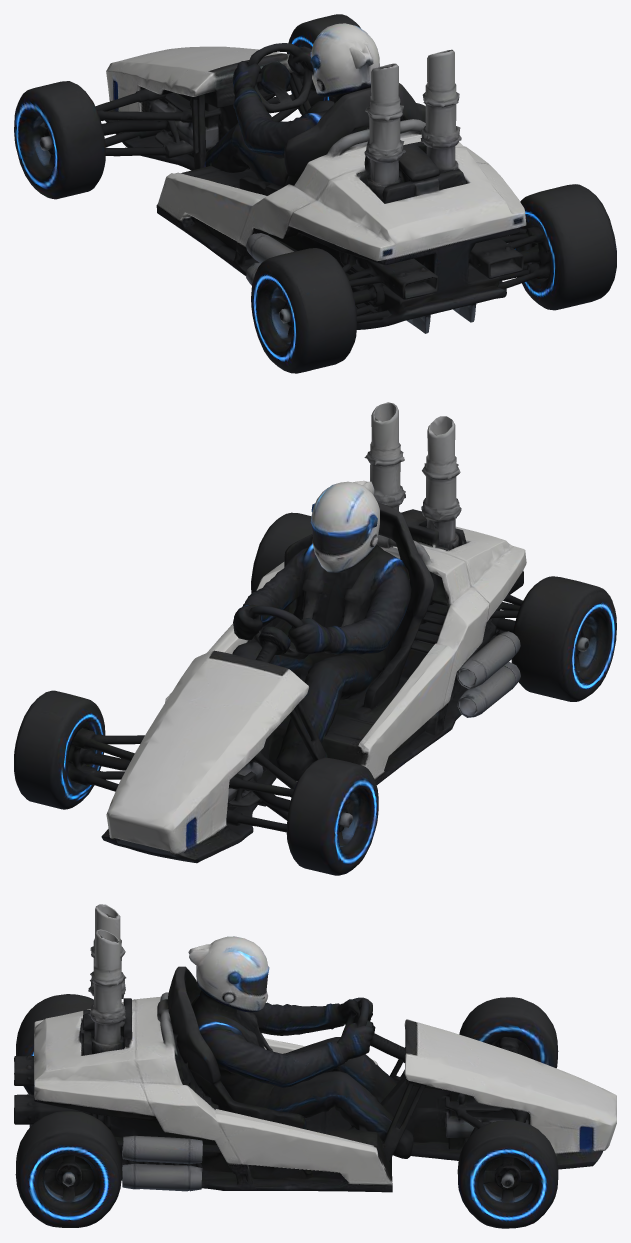
File: terra-final.glb
3 views of the same model, one above another, from view 1: azimuth 30°, elevation 25°; view 2: azimuth 150°, elevation 25°; view 3: azimuth 270°, elevation 25° (orthographic). The views are drawn at different scales.
Parts seen in each view (by area): view 1: chassis, wheel-rl, wheel-rr, wheel-fl, wheel-fr; view 2: chassis, wheel-rl, wheel-fl, wheel-fr, wheel-rr; view 3: chassis, wheel-rr, wheel-fr, wheel-fl, wheel-rl.
Part boxes in pixels (left/top/right/bottom): chassis: left=95, top=23, right=537, bottom=333; wheel-rl: left=251, top=248, right=356, bottom=373; wheel-rr: left=515, top=184, right=616, bottom=310; wheel-fl: left=14, top=81, right=105, bottom=199; wheel-fr: left=287, top=14, right=360, bottom=114; chassis: left=81, top=402, right=526, bottom=863; wheel-rl: left=511, top=576, right=616, bottom=701; wheel-fl: left=286, top=757, right=378, bottom=875; wheel-fr: left=14, top=690, right=105, bottom=809; wheel-rr: left=251, top=512, right=312, bottom=593; chassis: left=14, top=904, right=616, bottom=1192; wheel-rr: left=15, top=1111, right=121, bottom=1227; wheel-fr: left=457, top=1120, right=558, bottom=1228; wheel-fl: left=459, top=997, right=558, bottom=1068; wheel-rl: left=16, top=994, right=93, bottom=1094.
Size of the model in its own units: 2.54 by 1.99 by 4.5.
Materials: 1 (1 with a texture image).
